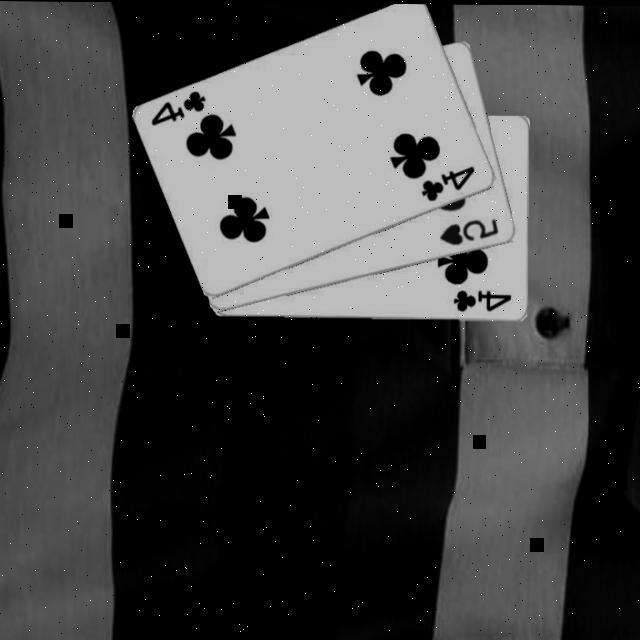4C: (150, 88, 211, 129), (421, 163, 480, 204), (452, 288, 516, 314)
5H: (439, 215, 504, 249)
